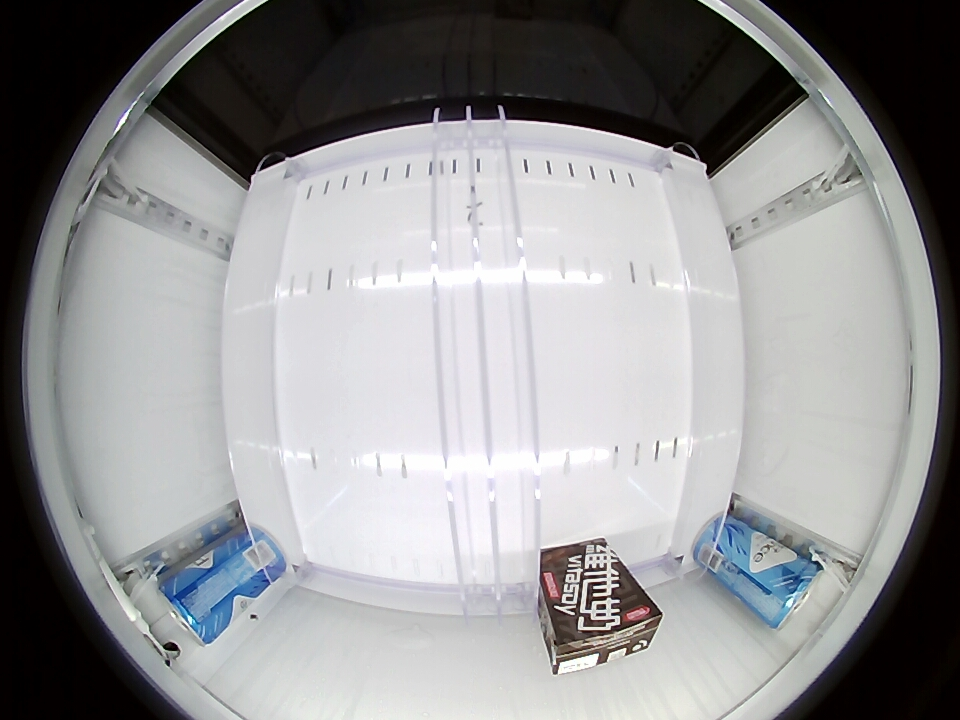qingdaowangzi-2: (158, 564, 230, 645), (758, 554, 824, 629)
weitanai2: (546, 588, 664, 676)
